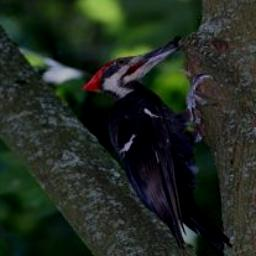Woodpecker: (80, 38, 233, 256)
